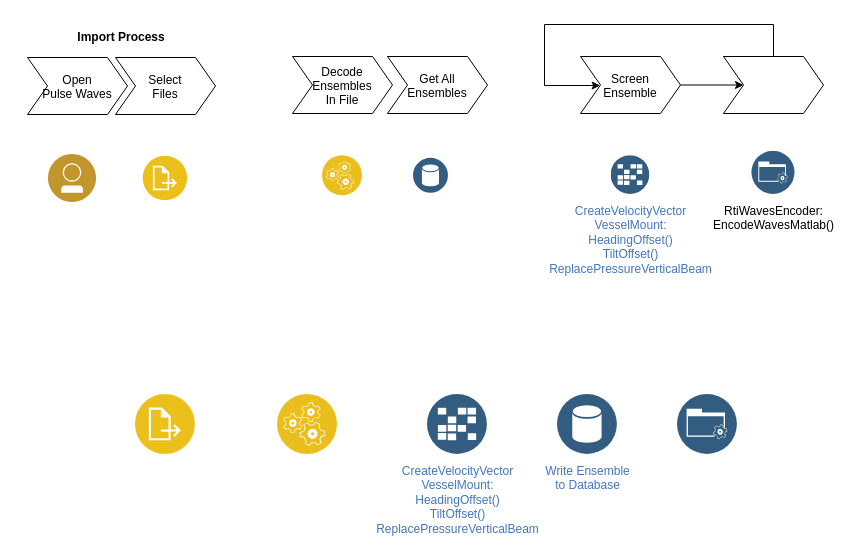
The diagram is 851 pixels wide and 554 high, and some of its shapes have lost their labels. Here are the shapes that lost their labels. From the top down, the centre of each, then its label:
(773,85): Convert Ensemble
(342,175): AdcpBinaryCodecReadFile: GetEnsembles()
(307,424): Decode Ensemble
(707,424): Write Out Matlab Burst
